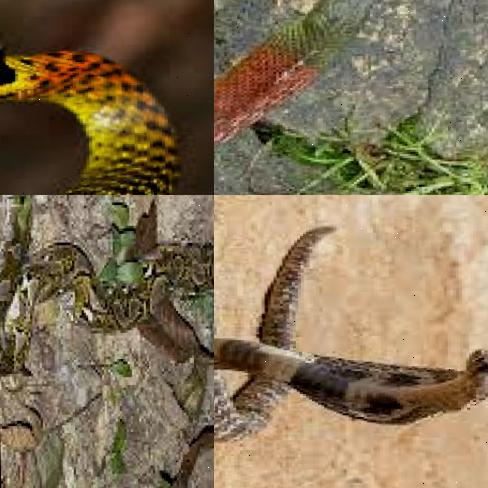snake: (214, 215, 488, 488), (214, 0, 488, 195), (0, 0, 214, 195), (0, 195, 214, 389)
